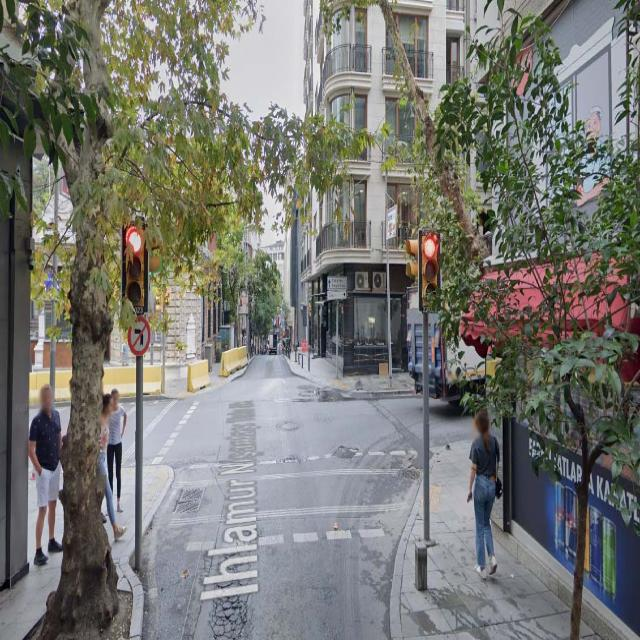kirmizi: (120, 219, 148, 315), (419, 228, 442, 311)
soladonulmez: (128, 315, 151, 355)
